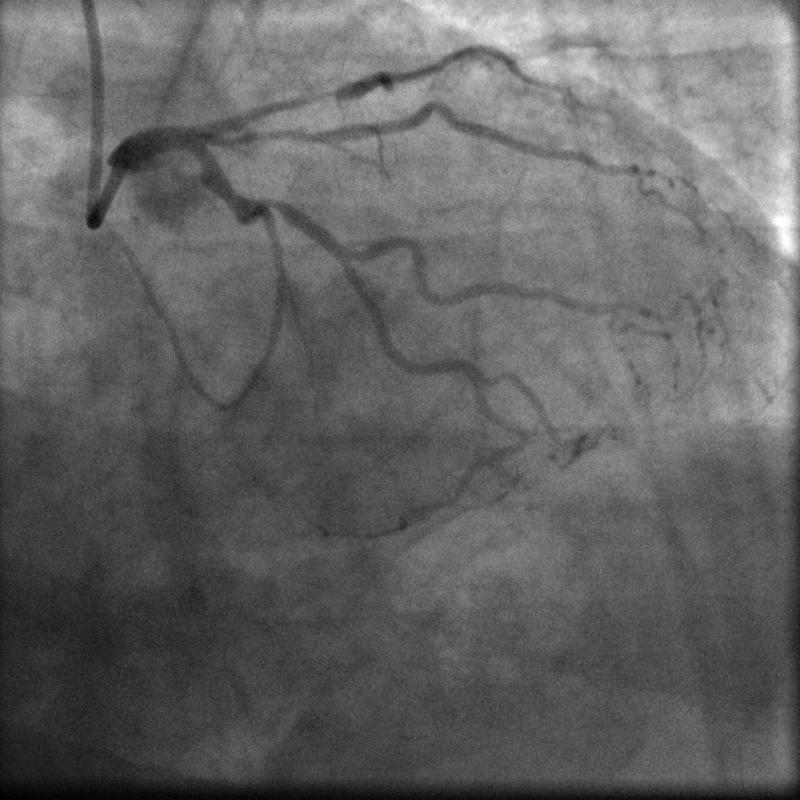Stenosis: (260, 192, 288, 216)
